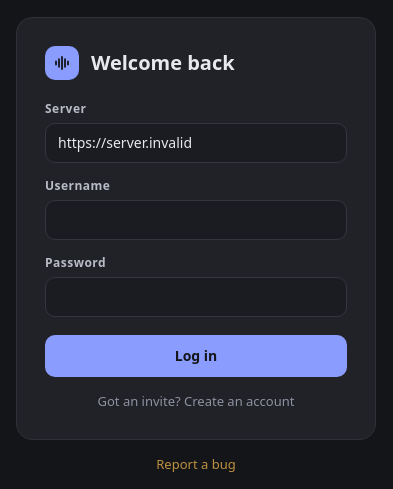
Test: Login › mfa_required shows only the code field, and the password is gone
Type "alex" into the field labelled "Username" at point(196, 220), box [45,200,347,240]
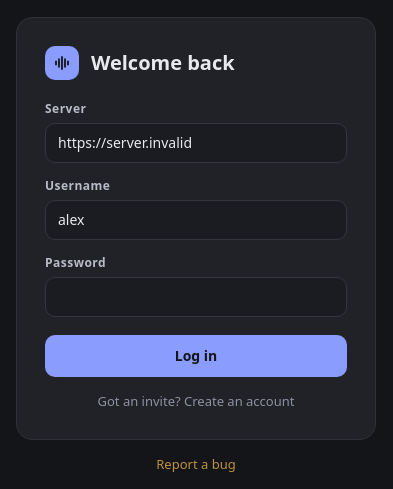
Type "pw-for-alex" into the password field labelled "Password" at point(196, 296), box [45,276,347,316]
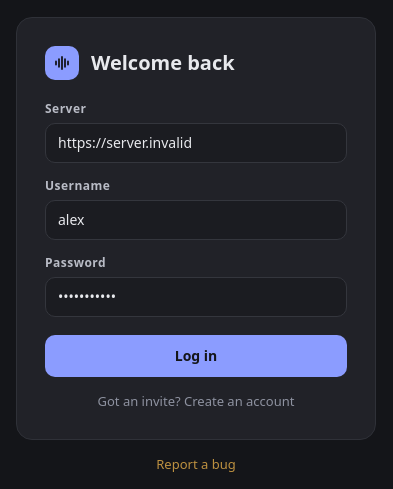
Submit the form
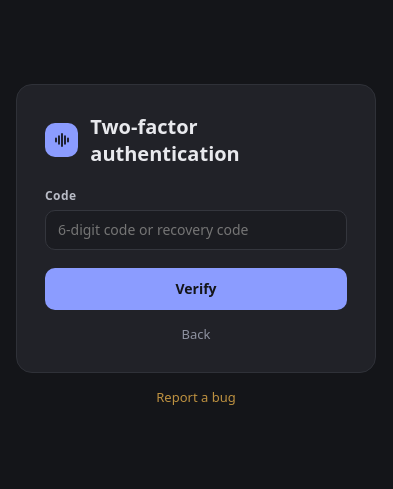
Now the number of fields is 1, box [45,210,347,250]
Now the text "Code" is shown, box [45,186,347,250]
